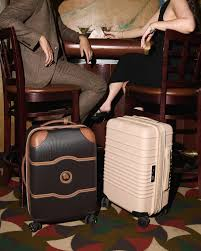suitcase: (22, 118, 100, 233), (103, 114, 175, 225)
